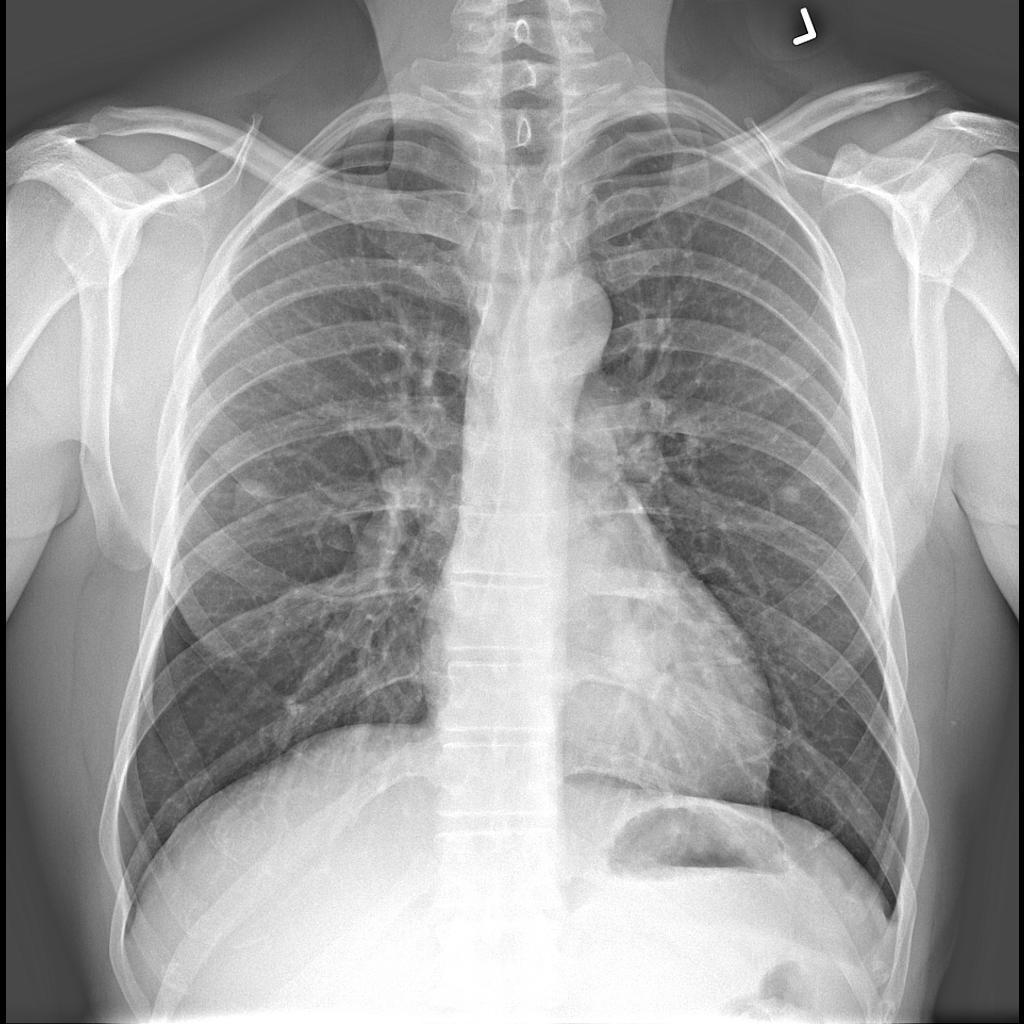Nodule: (599, 615, 683, 691), (226, 477, 274, 527), (770, 474, 810, 515)
